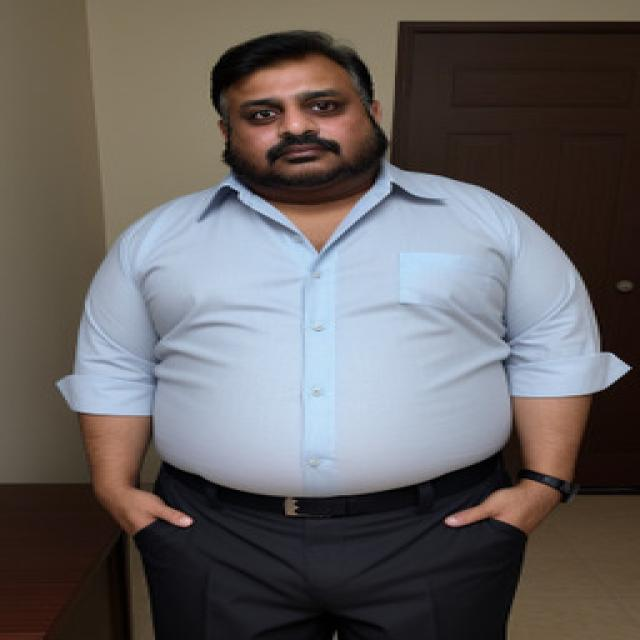Ai human 2: (55, 21, 616, 640)
